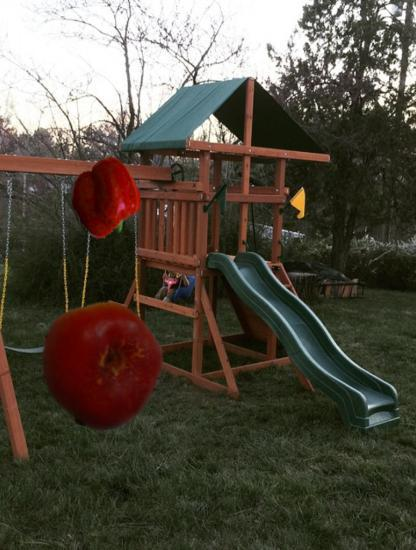Nectarine: (36, 300, 164, 428)
Pepper: (68, 161, 144, 237)
